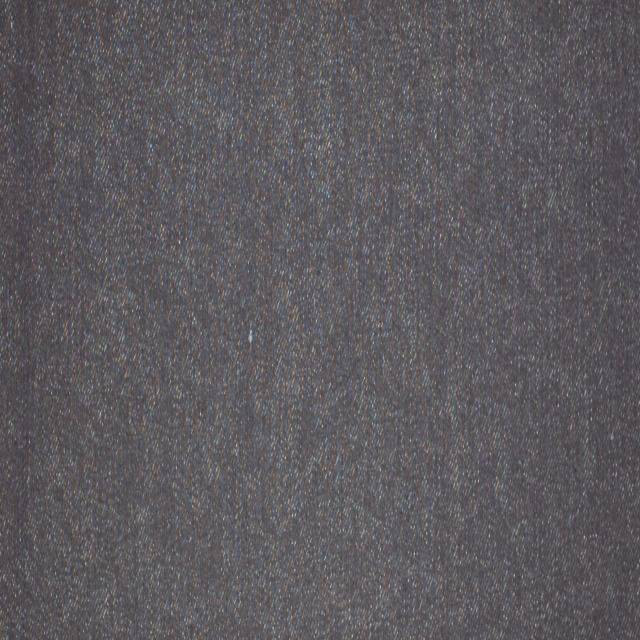Knot: (247, 326, 255, 346)
